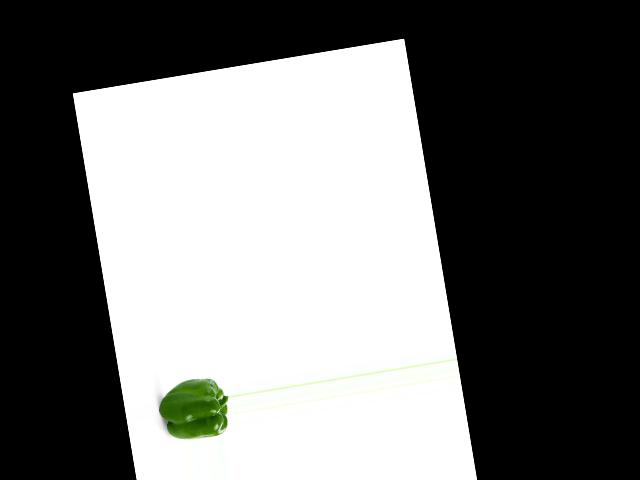bell_pepper: (157, 373, 233, 445)
